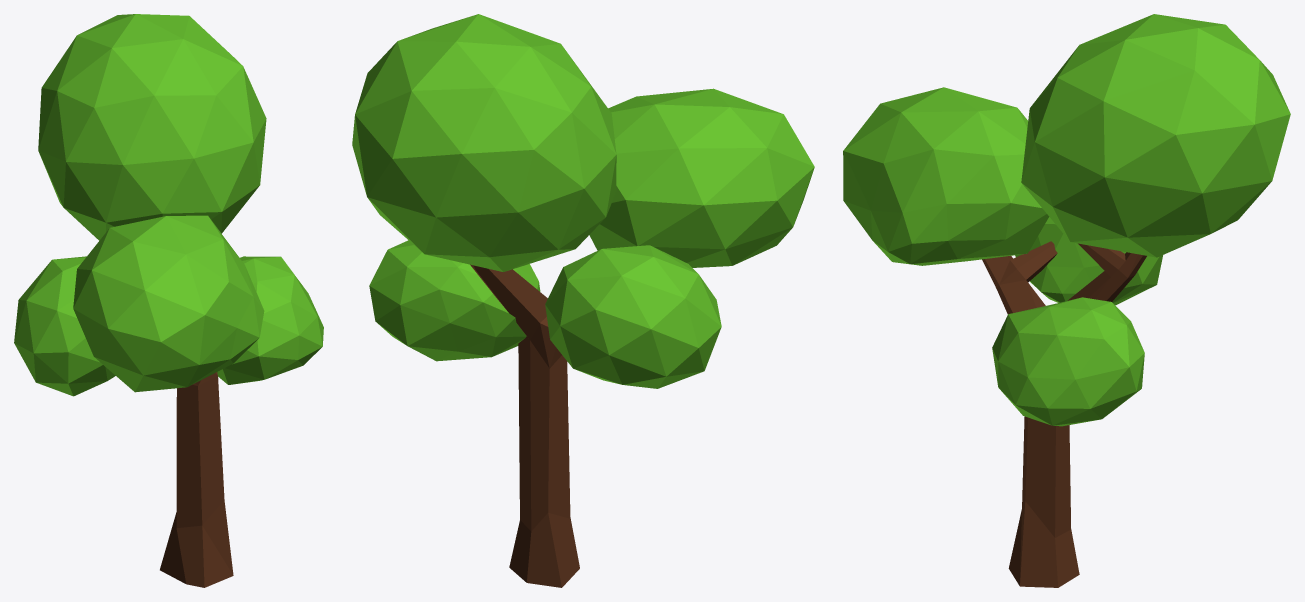
Rendered from Tree.FBX.
The picture shows the model from 3 angles, left to right: view 1: azimuth 30°, elevation 25°; view 2: azimuth 150°, elevation 25°; view 3: azimuth 270°, elevation 25°; orthographic projection. The views are drawn at different scales.
Visible parts, largest first — view 1: Line001; view 2: Line001; view 3: Line001.
Boxes of the visible parts, x1=… form: Line001: x1=14, y1=14, x2=323, y2=587; Line001: x1=352, y1=14, x2=814, y2=587; Line001: x1=843, y1=14, x2=1290, y2=587.
Bounding box in the file's own units: 254 × 425 × 313.
